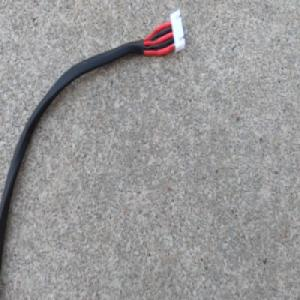Wire: (0, 6, 186, 285)
